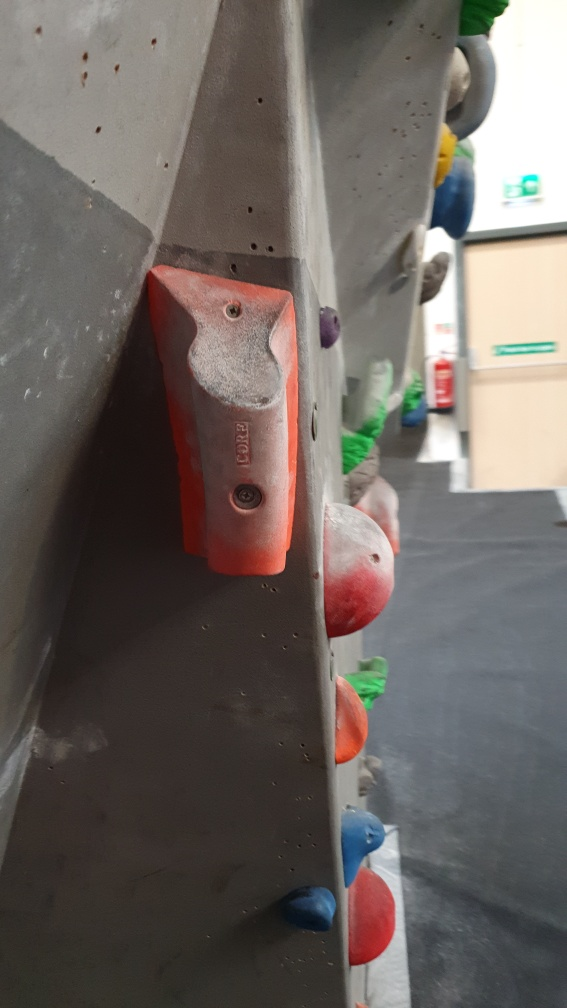Pinch: (141, 263, 304, 575)
Sloper: (319, 495, 398, 645), (345, 863, 398, 969)
